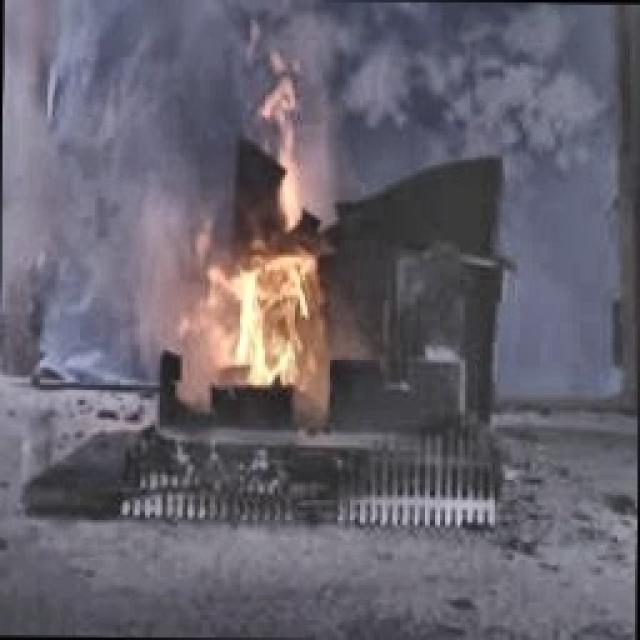fire: (184, 71, 336, 389)
